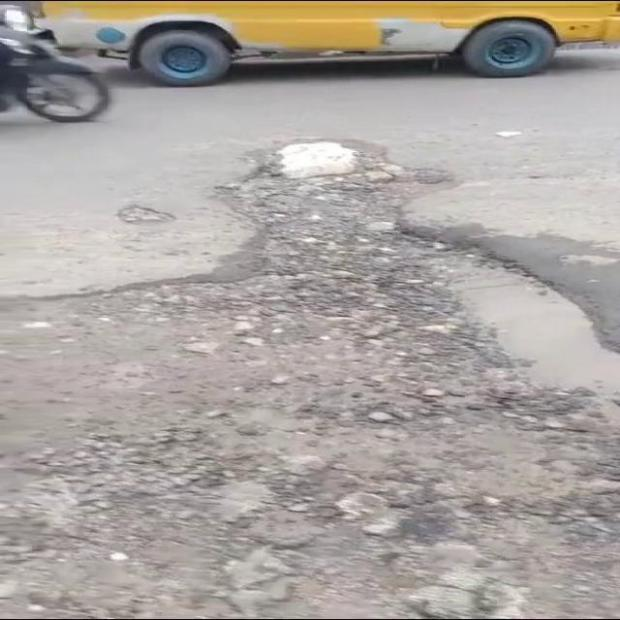lubang: (0, 148, 619, 616), (117, 204, 175, 225)
